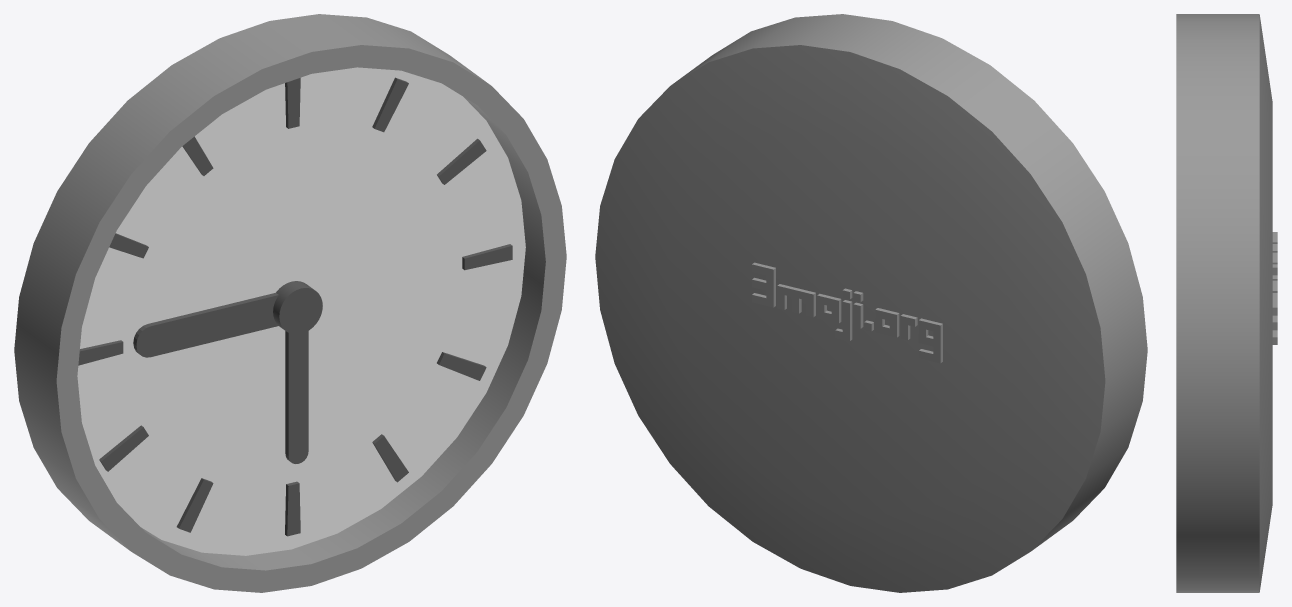
File: nine_thirty.fbx
3 views of the same model, side by side, from view 1: azimuth 30°, elevation 25°; view 2: azimuth 150°, elevation 25°; view 3: azimuth 270°, elevation 25° (orthographic).
Parts seen in each view (by area): view 1: Circle.2486; view 2: Circle.2486; view 3: Circle.2486.
Part boxes in pixels (x1=…): Circle.2486: x1=14, y1=14, x2=566, y2=592; Circle.2486: x1=595, y1=14, x2=1147, y2=592; Circle.2486: x1=1176, y1=14, x2=1277, y2=592.
Bounding box in the file's own units: 233 × 233 × 40.69.
Materials: 1 (1 with a texture image).
